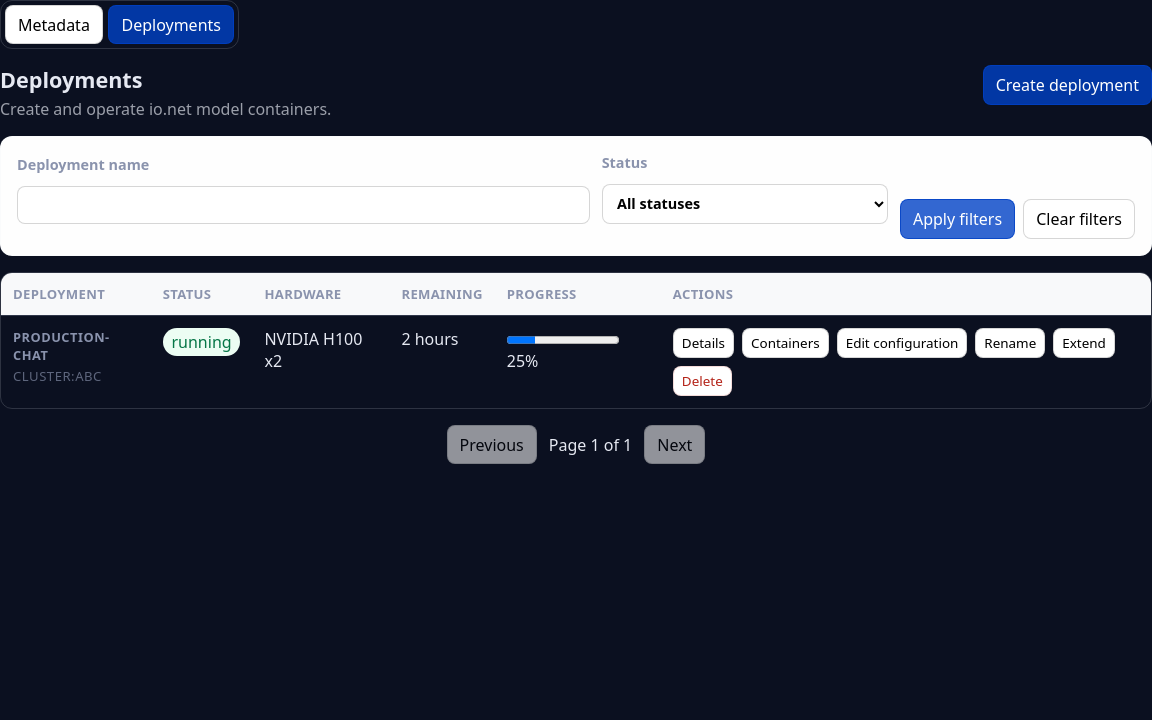
Test case: ModelsView deployment workflows › renames, confirms extension and deletion, and reports provider failures without reflecting details
The width and height of the screenshot is (1152, 720).
Click the button "Rename".
click(1010, 343)  # box [975,328,1045,358]
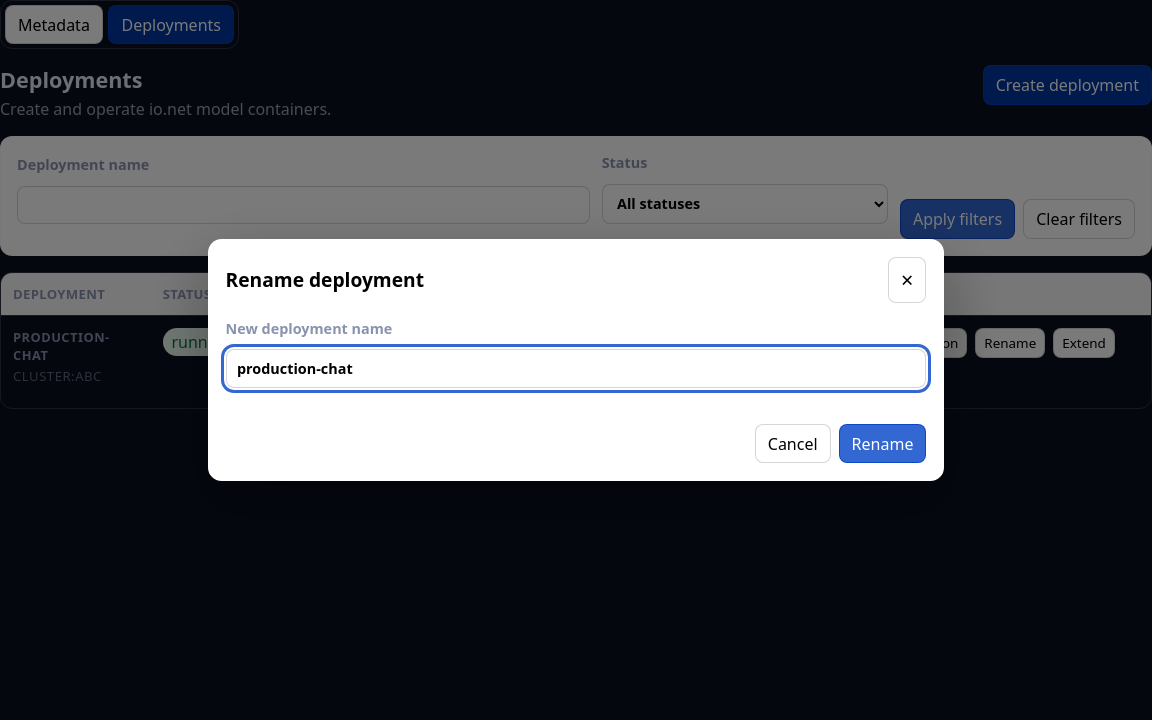
Replace the text in the field labelled "New deployment name" with "renamed-cluster" at (576, 369), box [226,349,926,388]
Click the button "Rename".
click(882, 444)  # box [839,424,926,463]
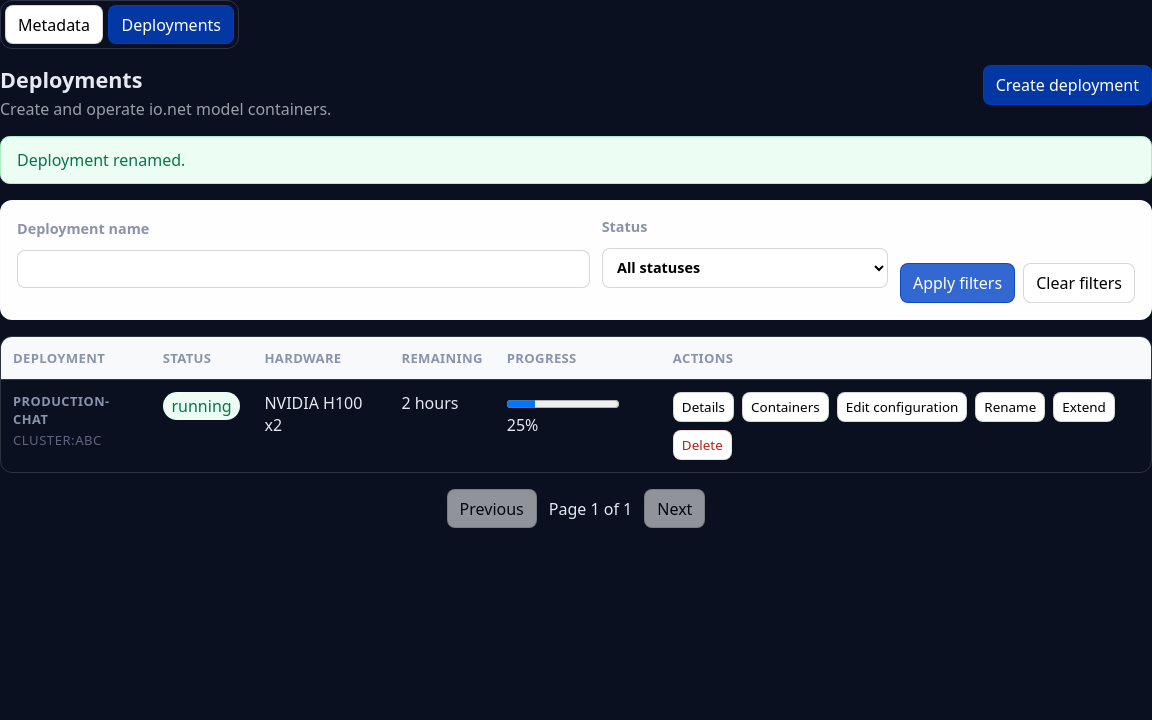
Click the button "Extend".
click(1084, 407)  # box [1053,392,1115,422]
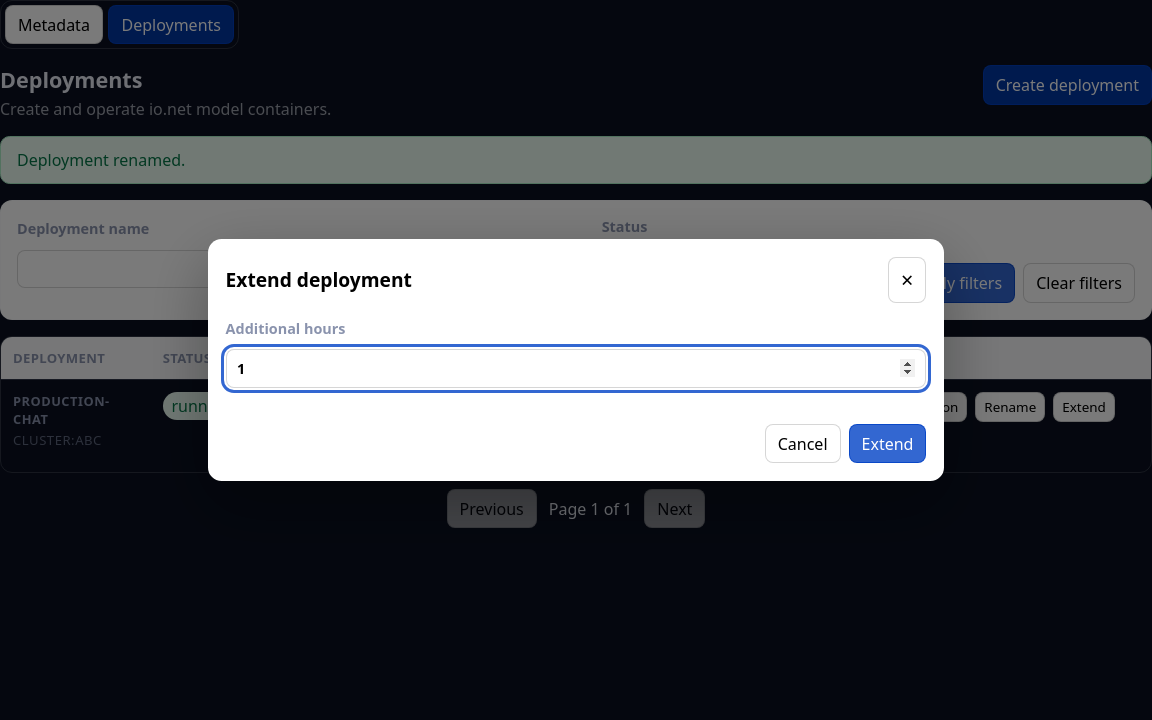
Click the button "Extend".
click(887, 444)  # box [848,424,926,463]
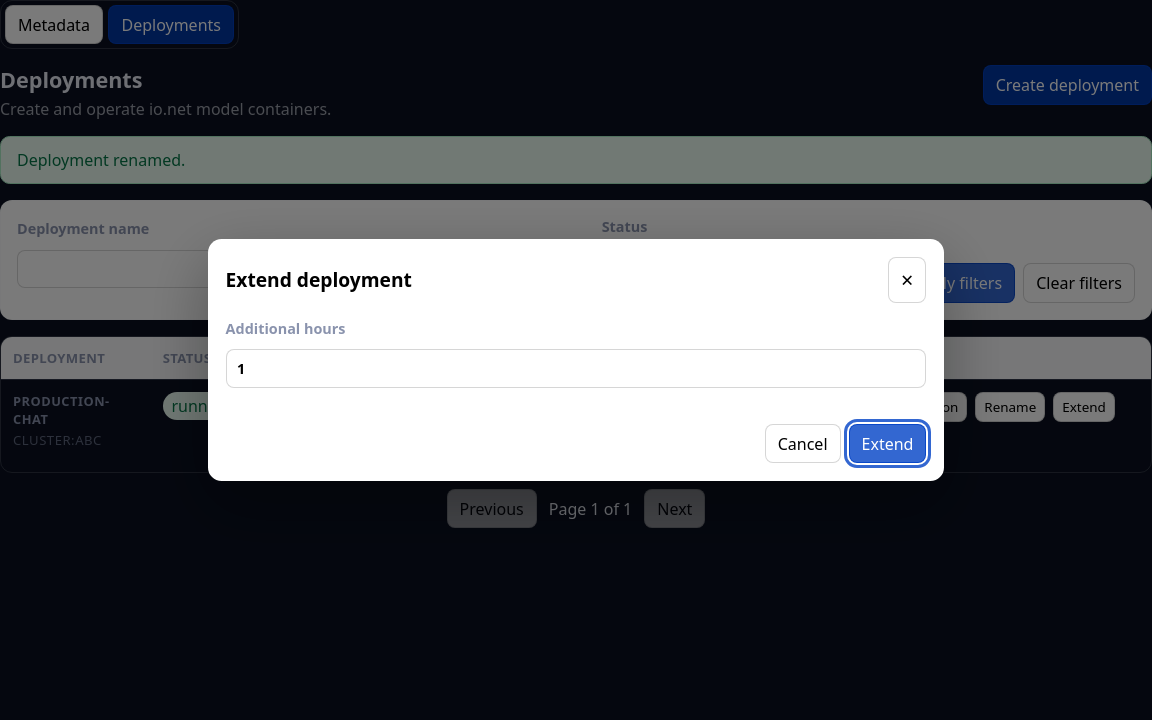
Click the button "Extend".
click(887, 444)  # box [848,424,926,463]
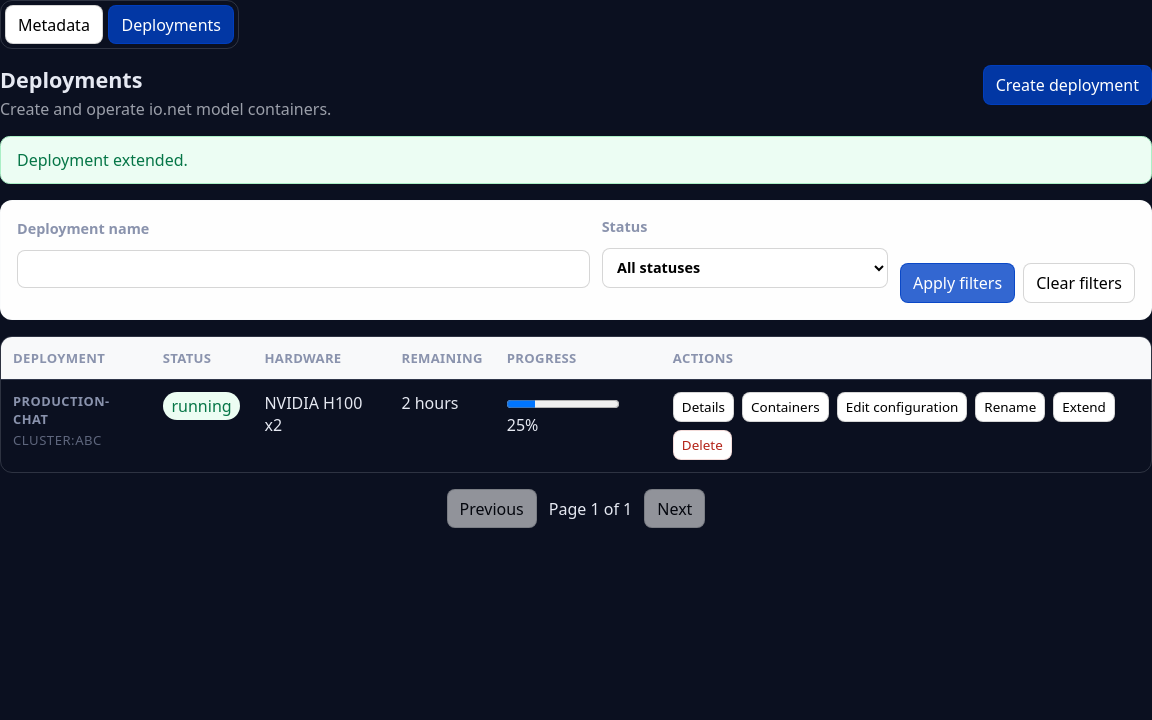
Click the button "Delete".
click(702, 445)  # box [673,430,732,460]
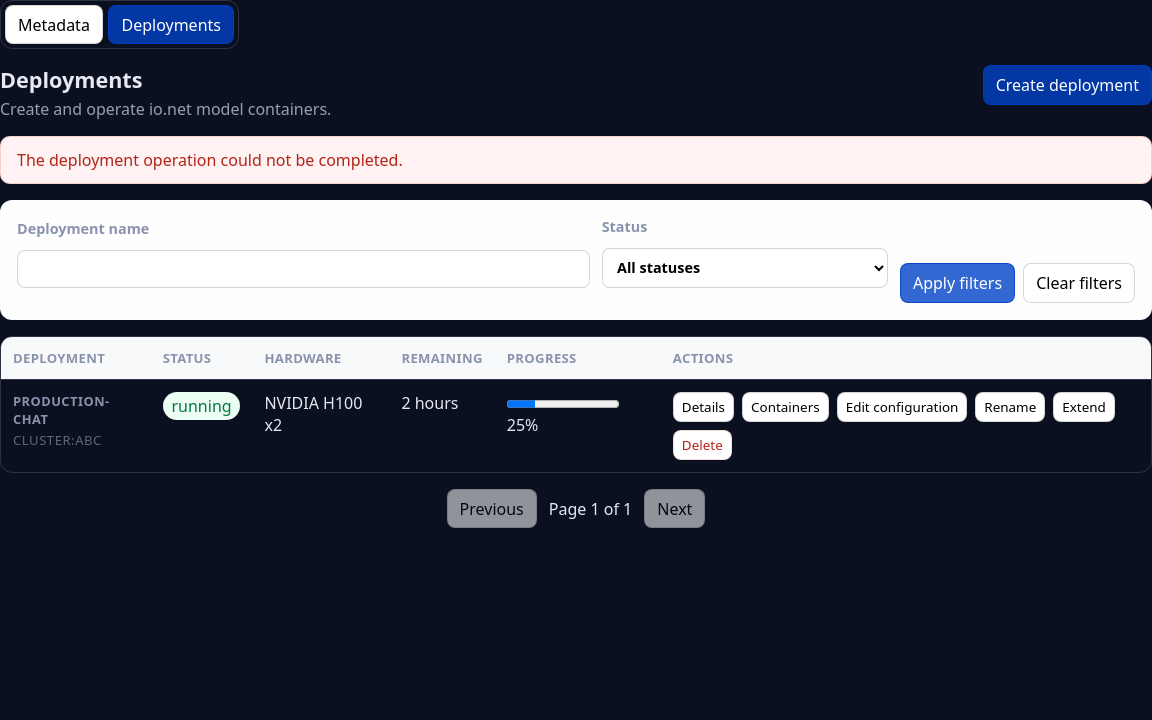
Check: the text "The deployment operation could not be completed." is shown, box [0,136,1151,184]
